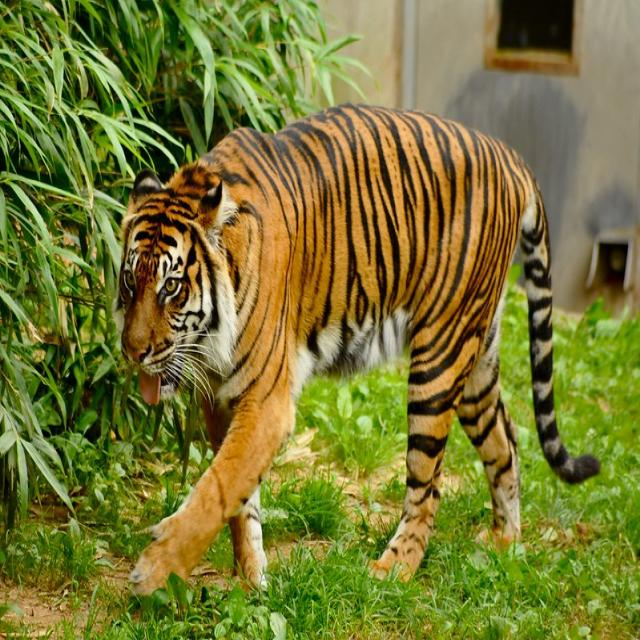Tiger: (114, 100, 598, 604)
